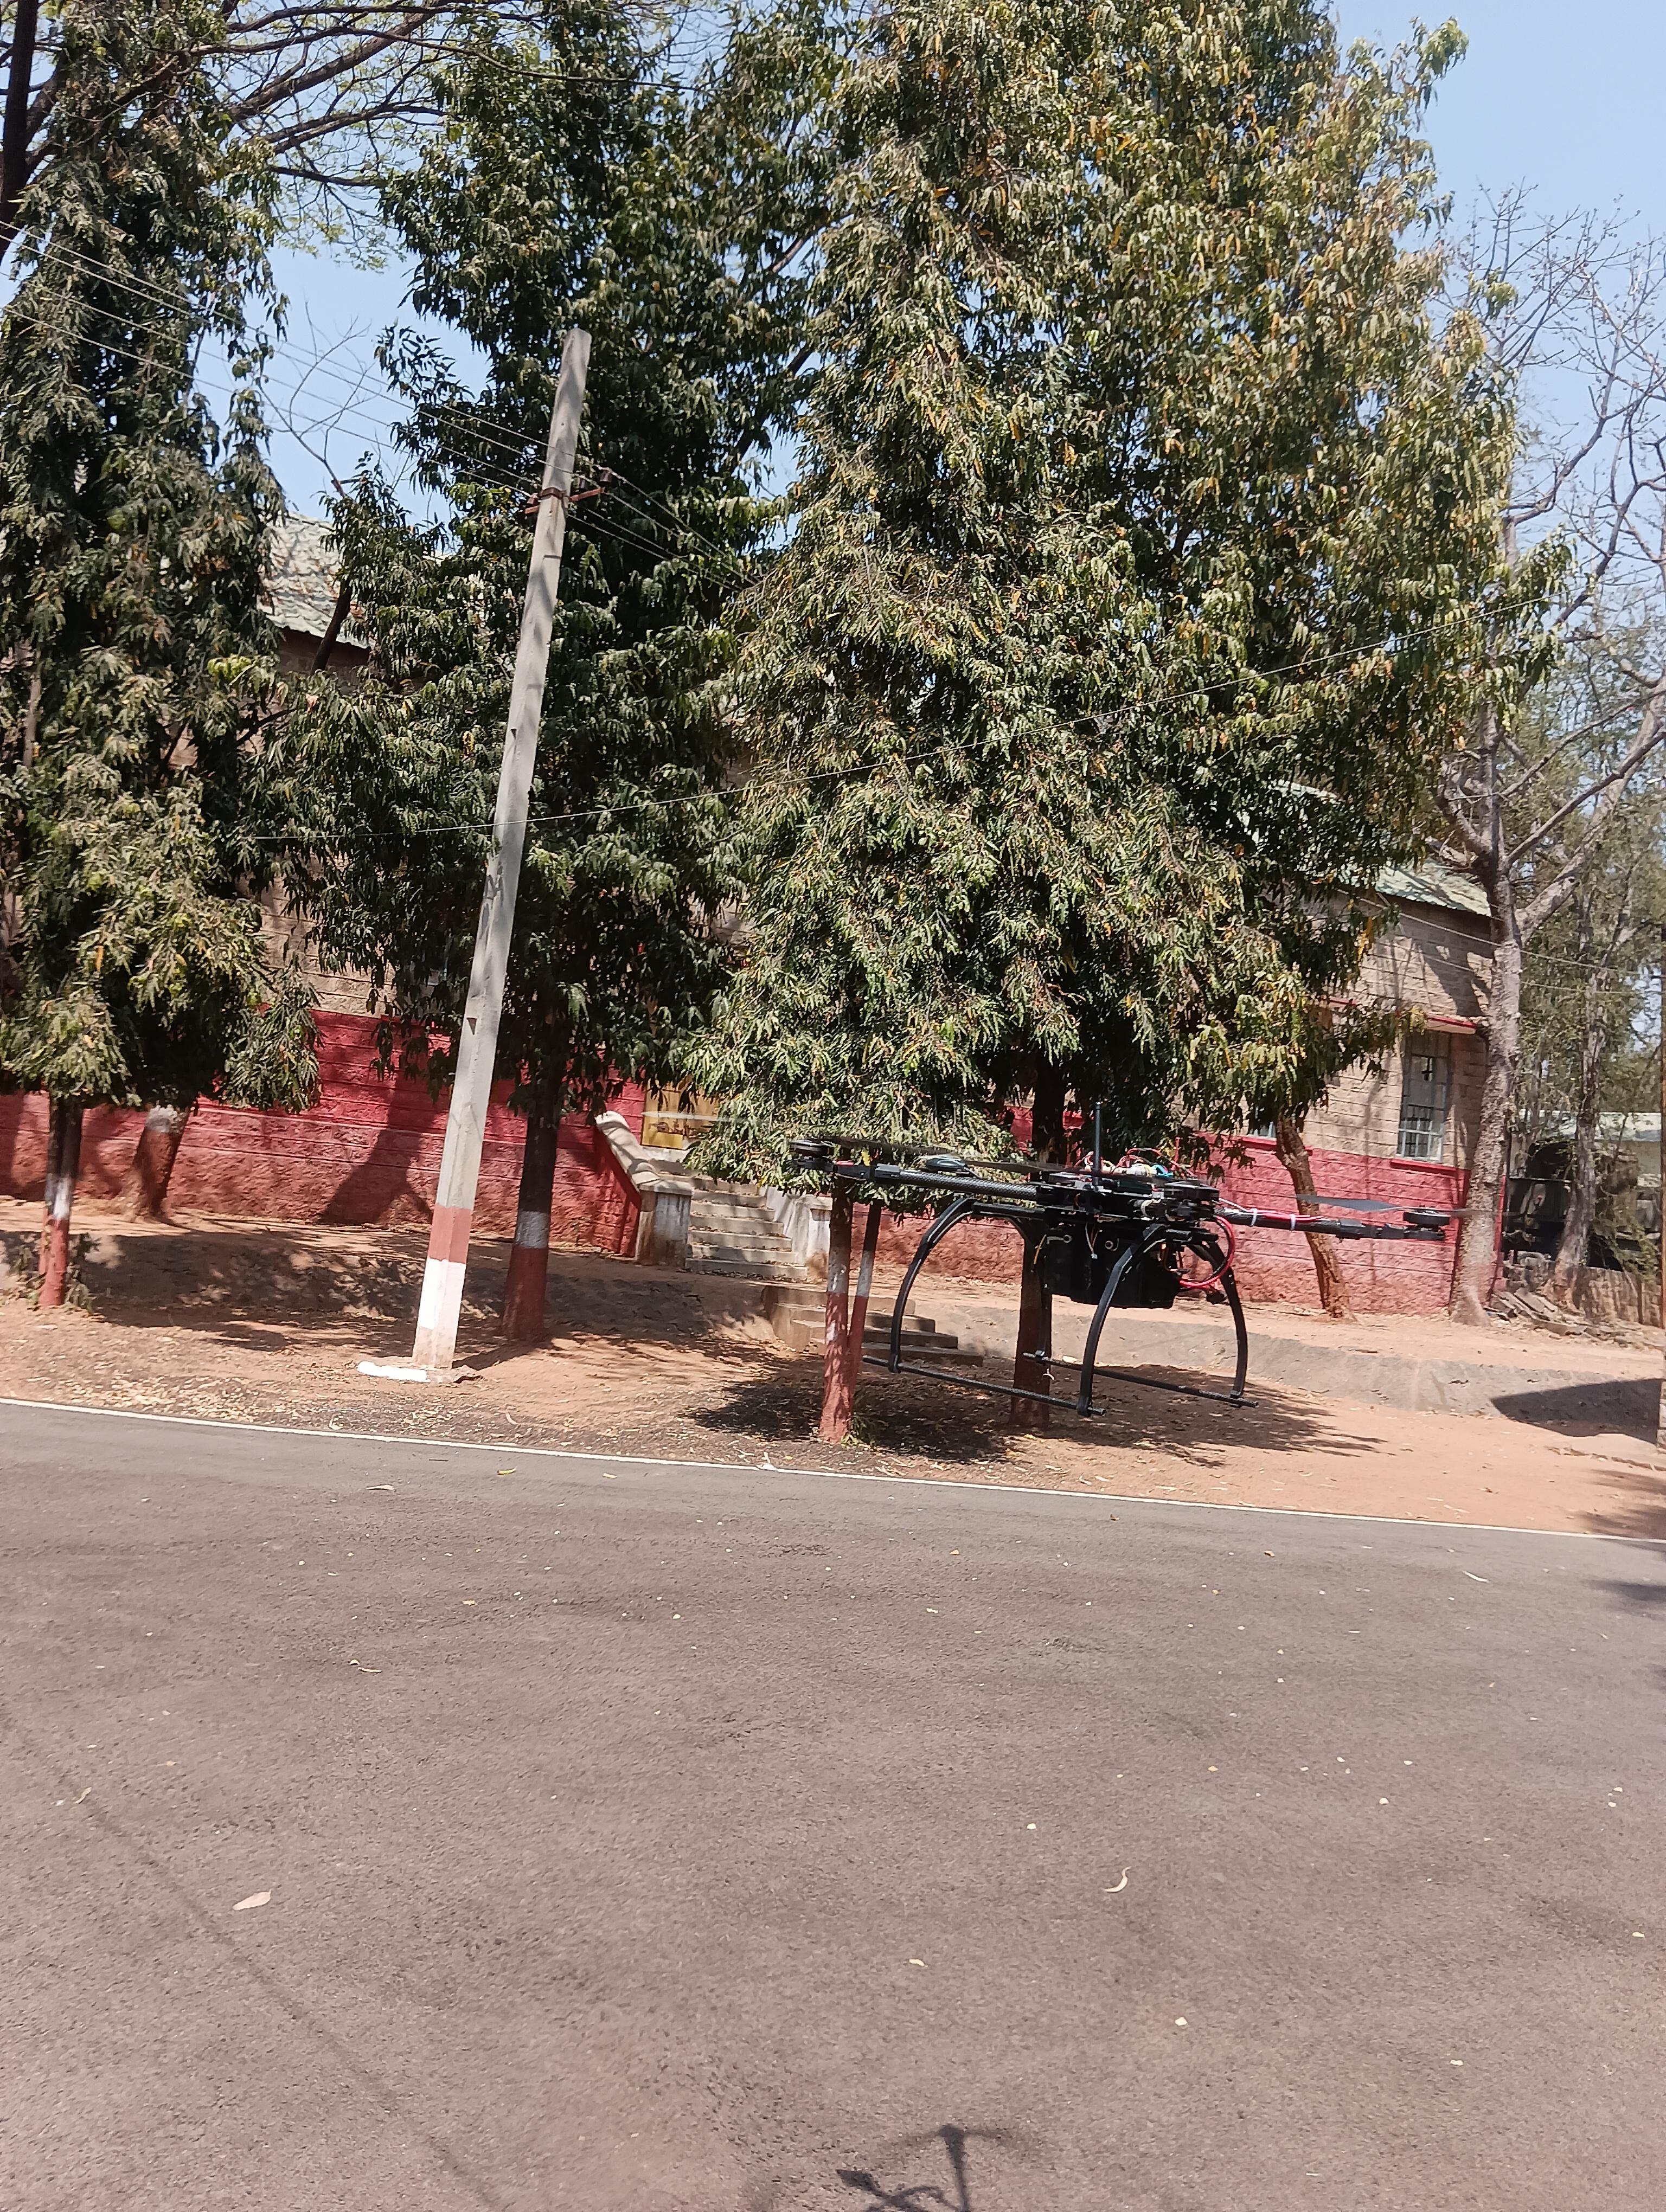drone: (609, 993, 1549, 1499)
